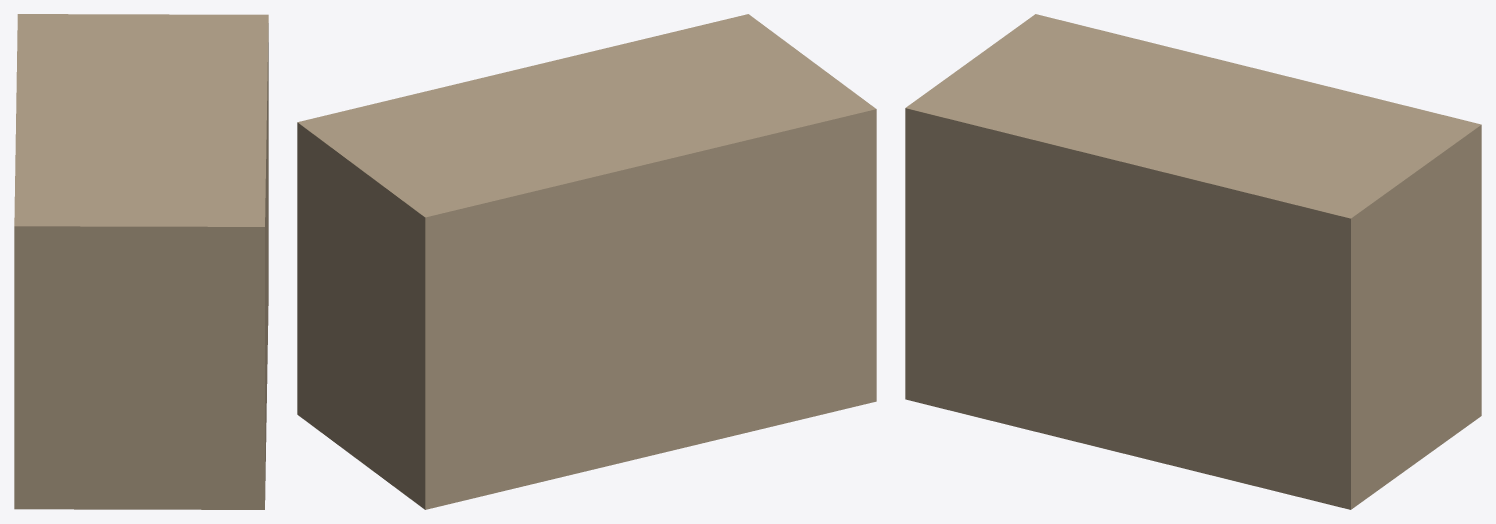
File: bld_107715929.dae
3 renders of one model, left to right at view 1: azimuth 30°, elevation 25°; view 2: azimuth 150°, elevation 25°; view 3: azimuth 270°, elevation 25°, orthographic. The views are drawn at different scales.
Visible parts, largest first — view 1: bld_107715929; view 2: bld_107715929; view 3: bld_107715929.
Part boxes in pixels (x1,y1,x2,y2): bld_107715929: (14, 14, 268, 509); bld_107715929: (297, 14, 876, 509); bld_107715929: (905, 14, 1481, 509).
Bounding box in the file's own units: 12.05 × 14.35 × 8.
